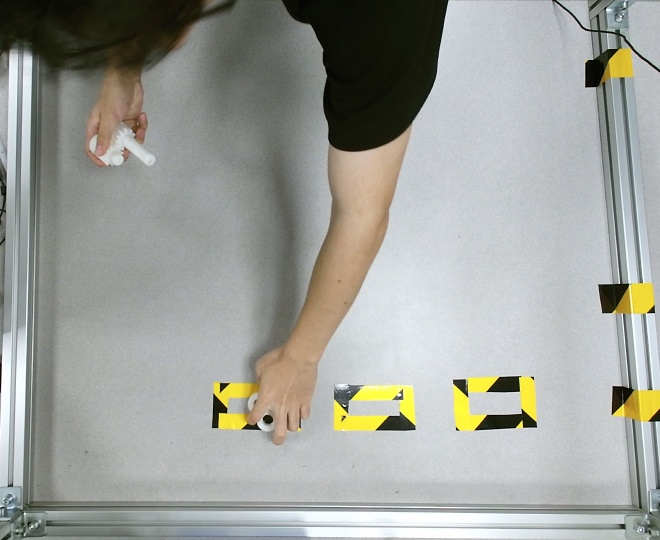stage_3: (90, 121, 156, 165)
